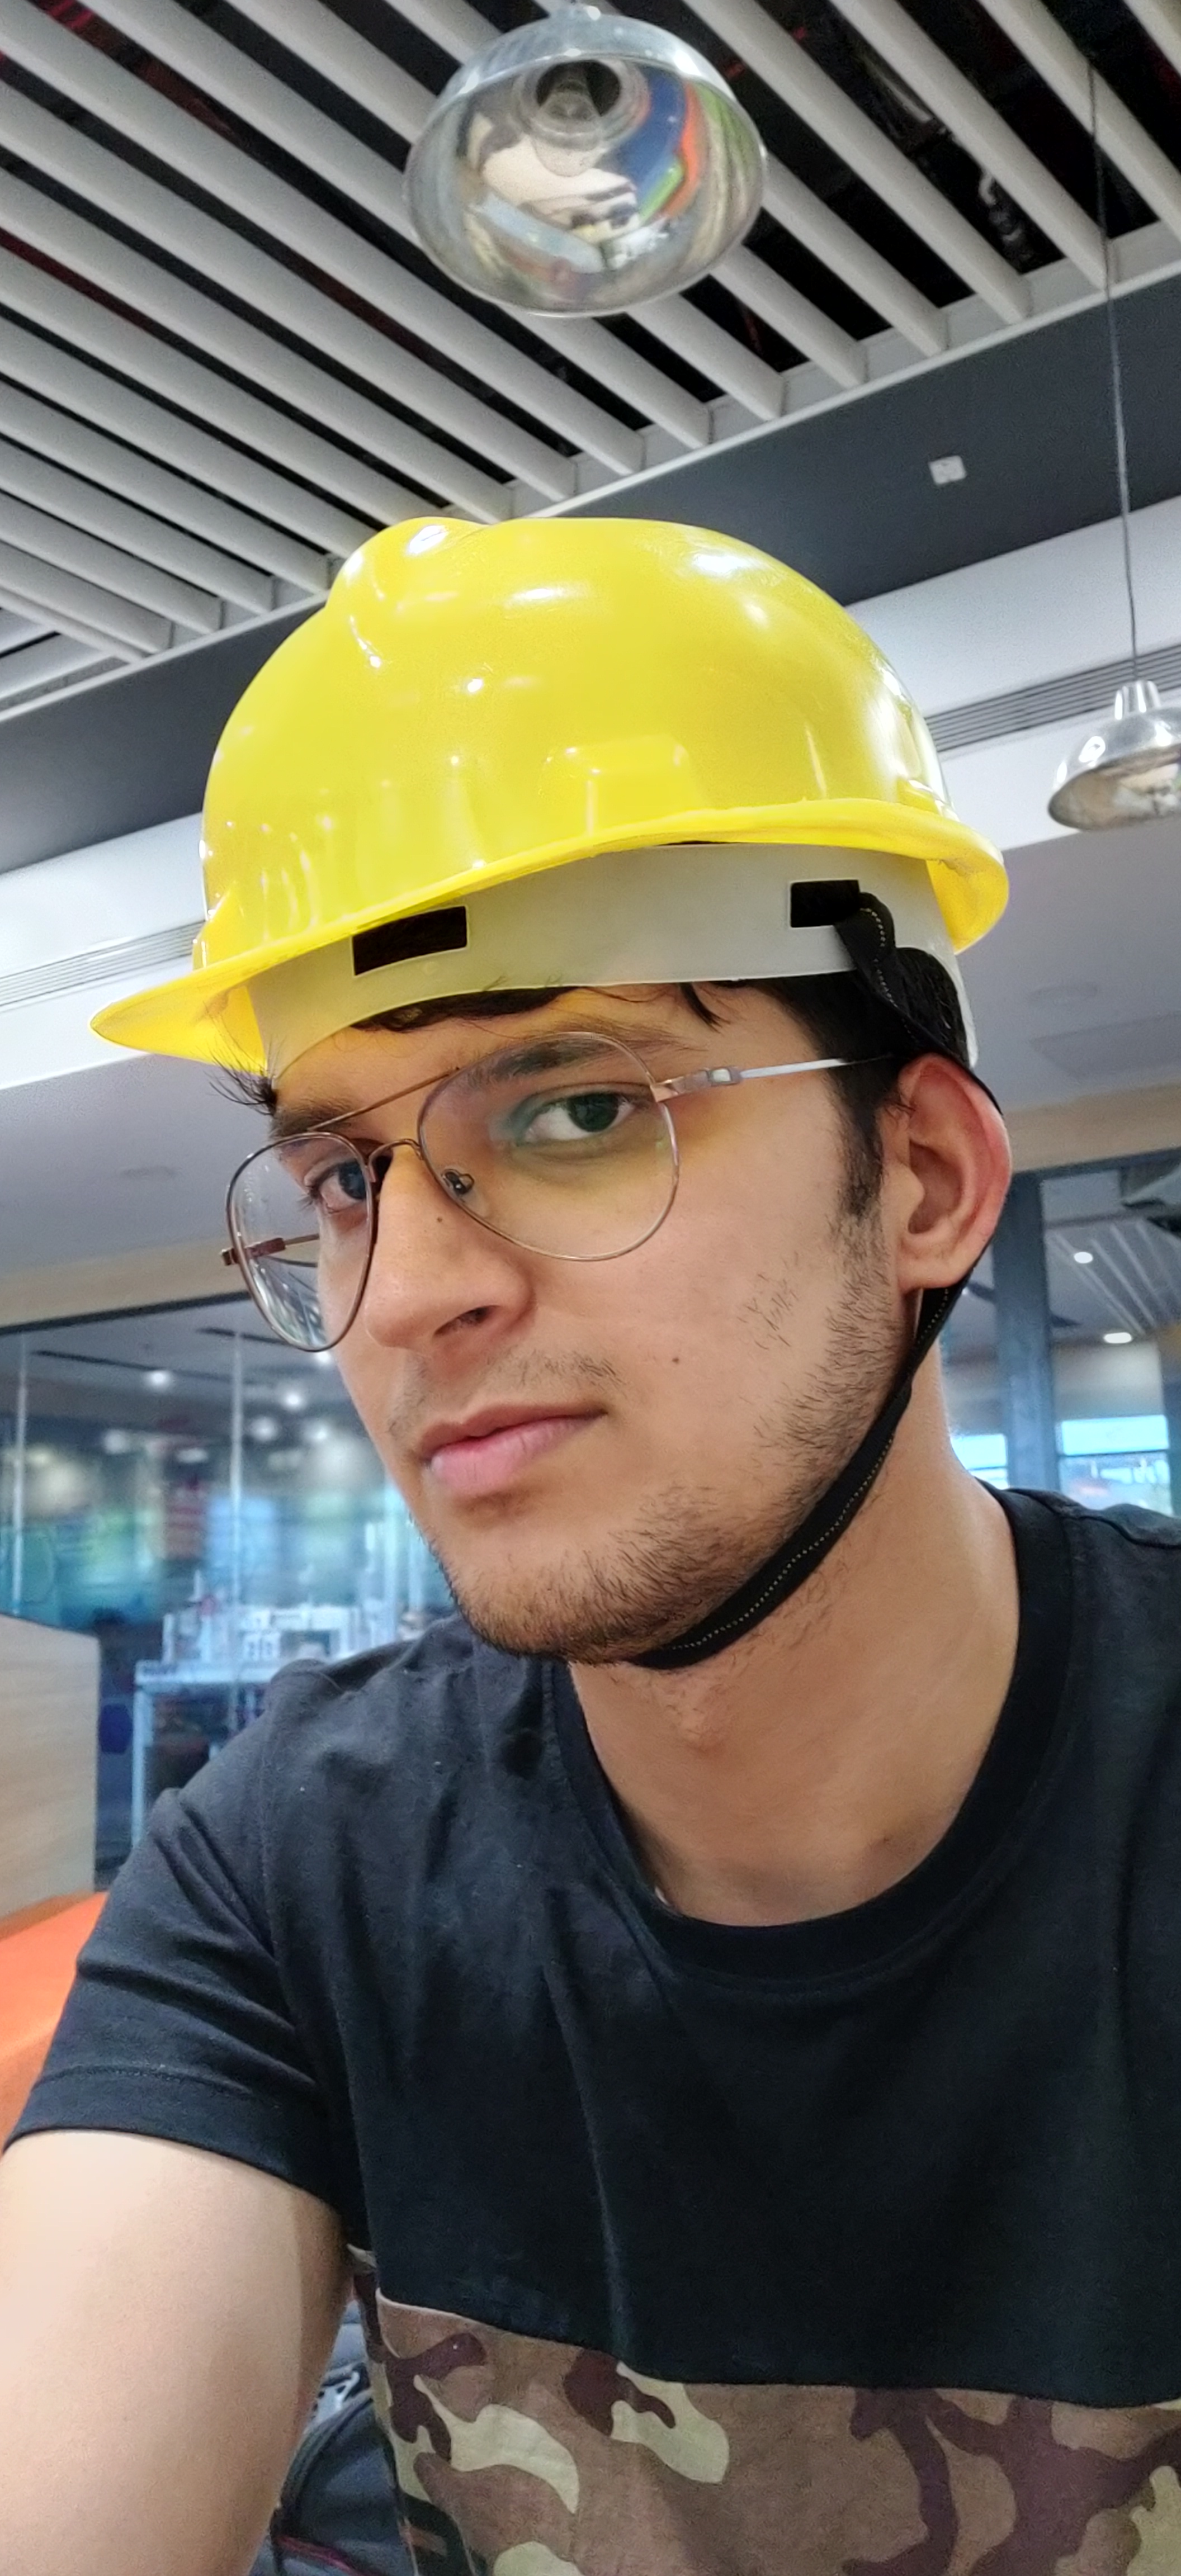Person_wearing_helmet: (198, 452, 1024, 1320)
